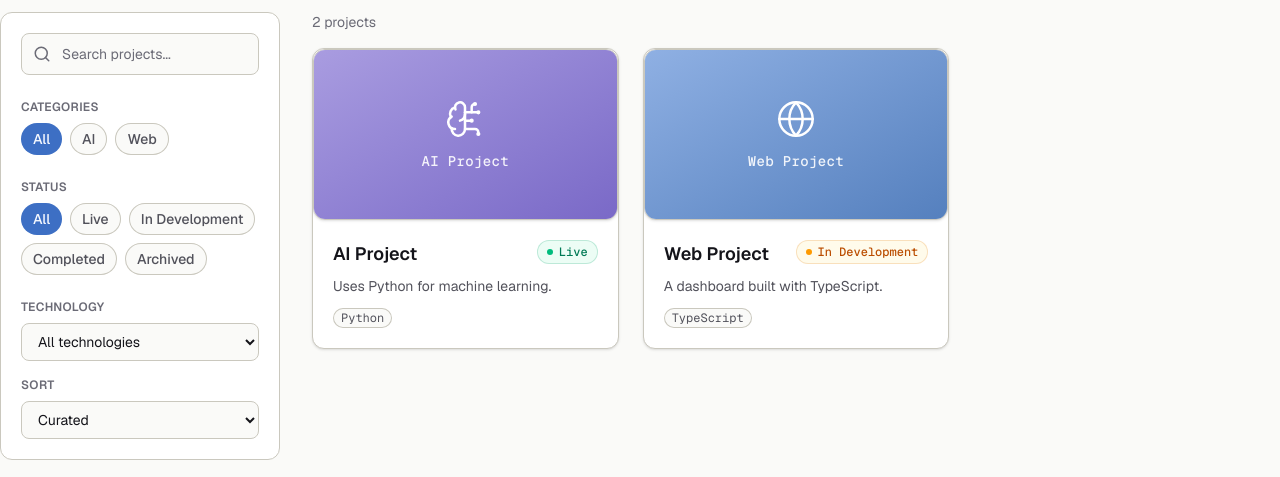
Test: ProjectsExplorer › combines category and technology filters down to zero results with an empty state
The width and height of the screenshot is (1280, 477).
Click the button "AI" at point(89, 139), box [70, 123, 107, 155]
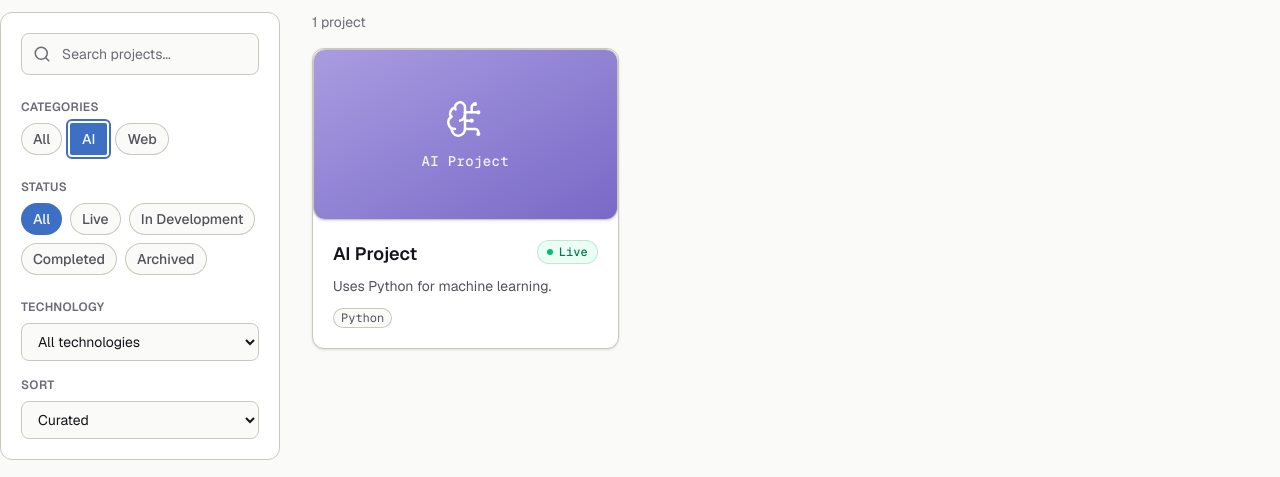
Select "TypeScript" in the dropdown labelled "Technology" at point(140, 342), box [21, 323, 259, 361]
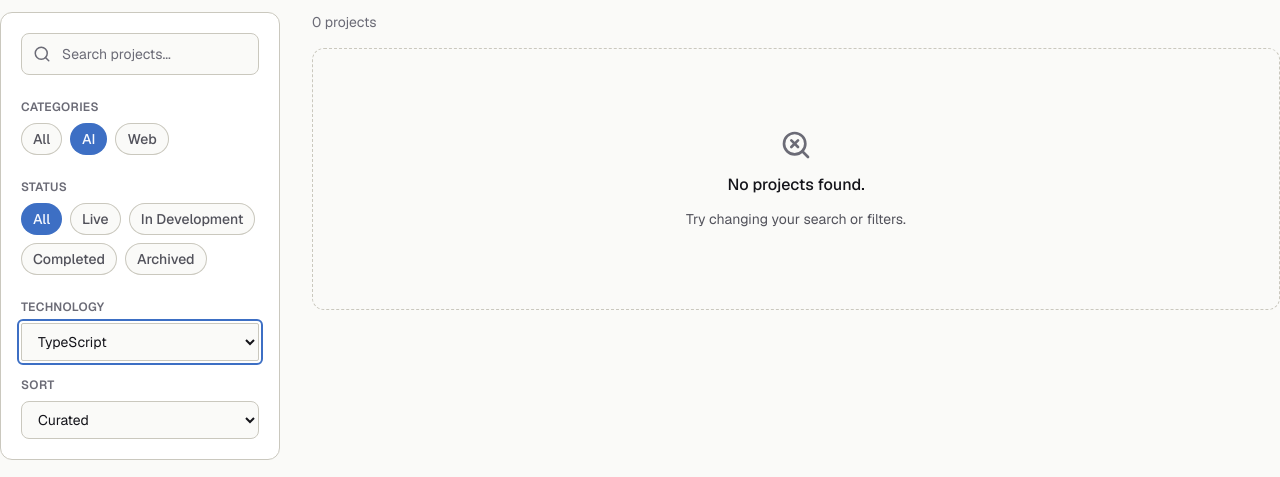
Expected: the text "No projects found." is shown, [727, 173, 864, 197]
